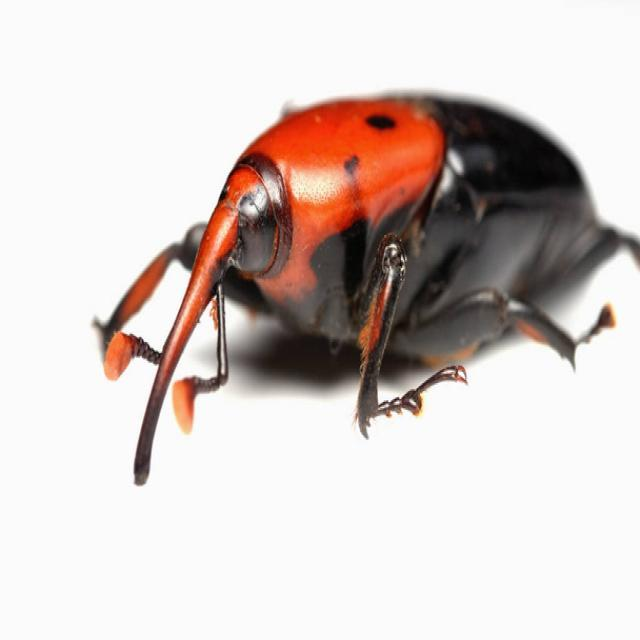Red-palm-weevil: (90, 78, 622, 514)
